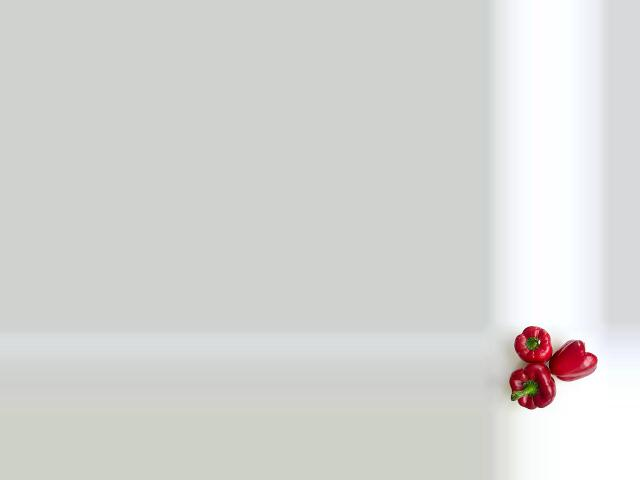bell_pepper: (547, 331, 603, 385)
